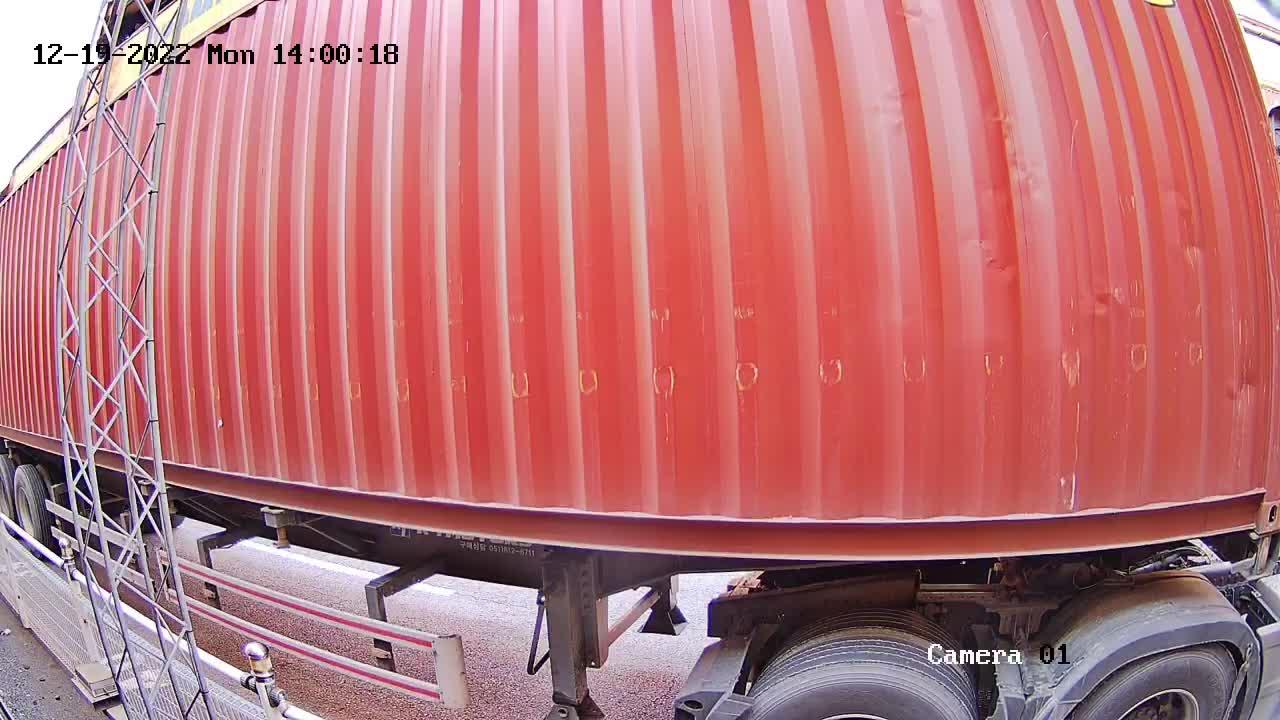Cone: (1244, 536, 1279, 582)
Hole_R: (1216, 456, 1279, 533)
Tire: (756, 664, 977, 717), (1084, 651, 1233, 718), (13, 469, 44, 539), (0, 464, 13, 517)
